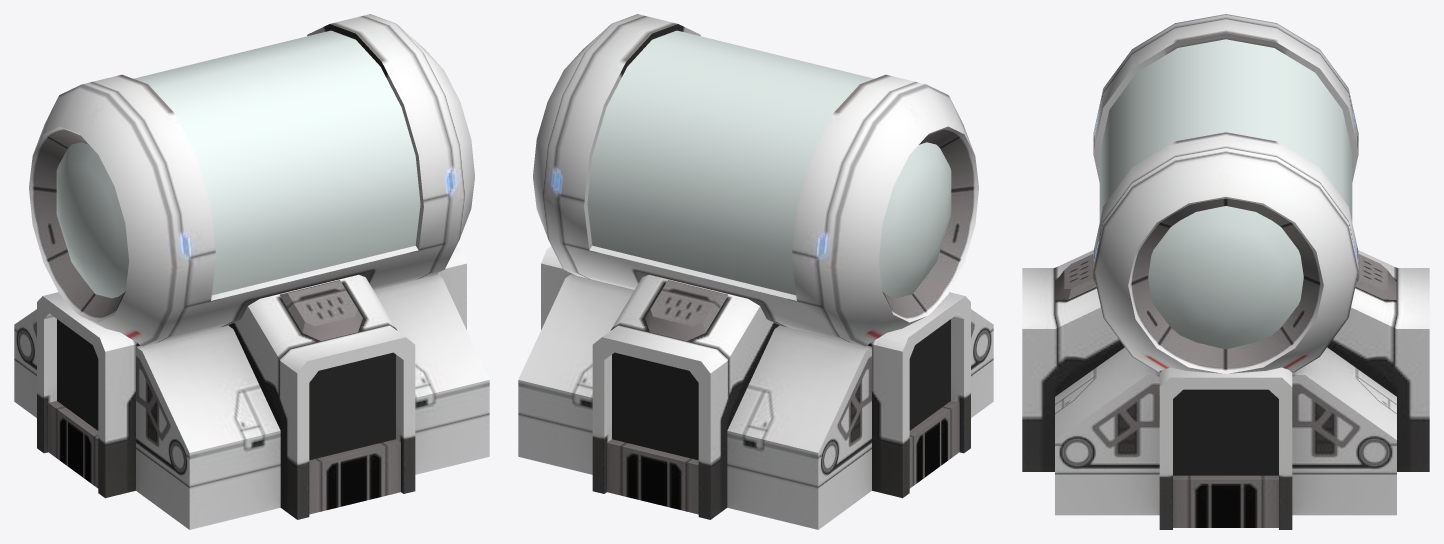
The picture shows the model from 3 angles, left to right: view 1: azimuth 30°, elevation 25°; view 2: azimuth 150°, elevation 25°; view 3: azimuth 270°, elevation 25°; orthographic projection. The views are drawn at different scales.
Parts seen in each view (by area): view 1: storage-tank; view 2: storage-tank; view 3: storage-tank.
Part boxes in pixels (x1,y1,x2,y2): storage-tank: [14, 14, 489, 529]; storage-tank: [518, 14, 993, 529]; storage-tank: [1022, 14, 1429, 529].
Size of the model in its own units: 4.6 by 4.5 by 4.6.
3 materials, 1 textured.
